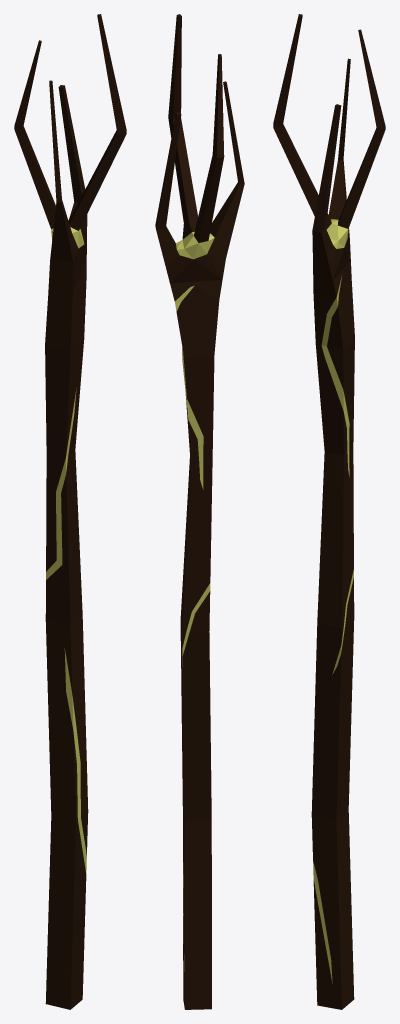
Rendered from LightningStaff.obj.
The picture shows the model from 3 angles, left to right: view 1: azimuth 90°, elevation 25°; view 2: azimuth 210°, elevation 25°; view 3: azimuth 270°, elevation 25°; orthographic projection.
Parts seen in each view (by area): view 1: Cube.002; view 2: Cube.002; view 3: Cube.002.
Boxes of the visible parts, bbox=[...] form: Cube.002: bbox=[14, 14, 126, 1009]; Cube.002: bbox=[155, 14, 244, 1009]; Cube.002: bbox=[273, 14, 385, 1009].
Size of the model in its own units: 0.1562 by 1.87 by 0.1926.
